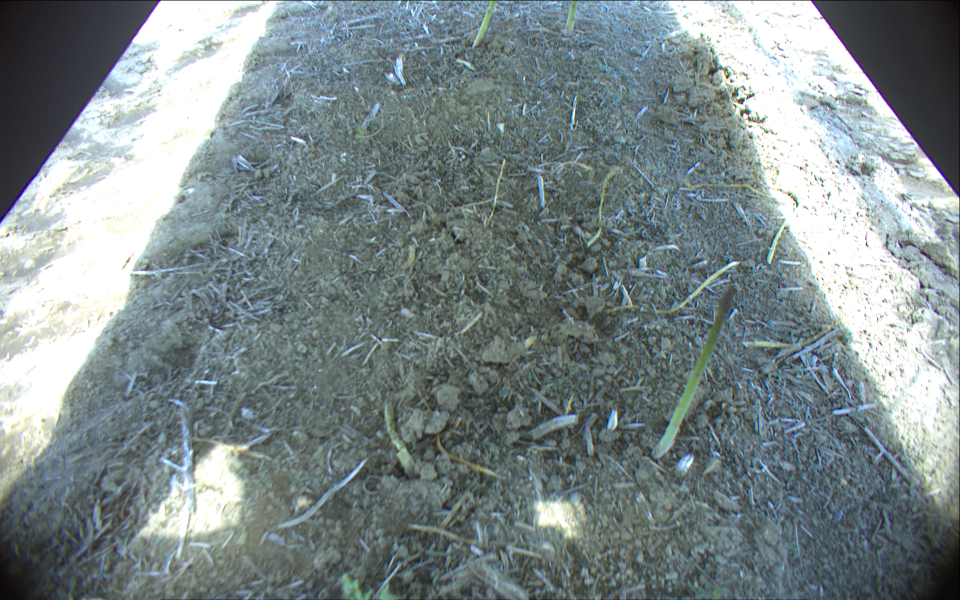aspa: (654, 283, 737, 459), (601, 261, 743, 319), (749, 314, 847, 351), (586, 165, 620, 250), (766, 185, 799, 264), (384, 403, 415, 471), (677, 180, 777, 197), (472, 1, 495, 49), (564, 1, 578, 37)
